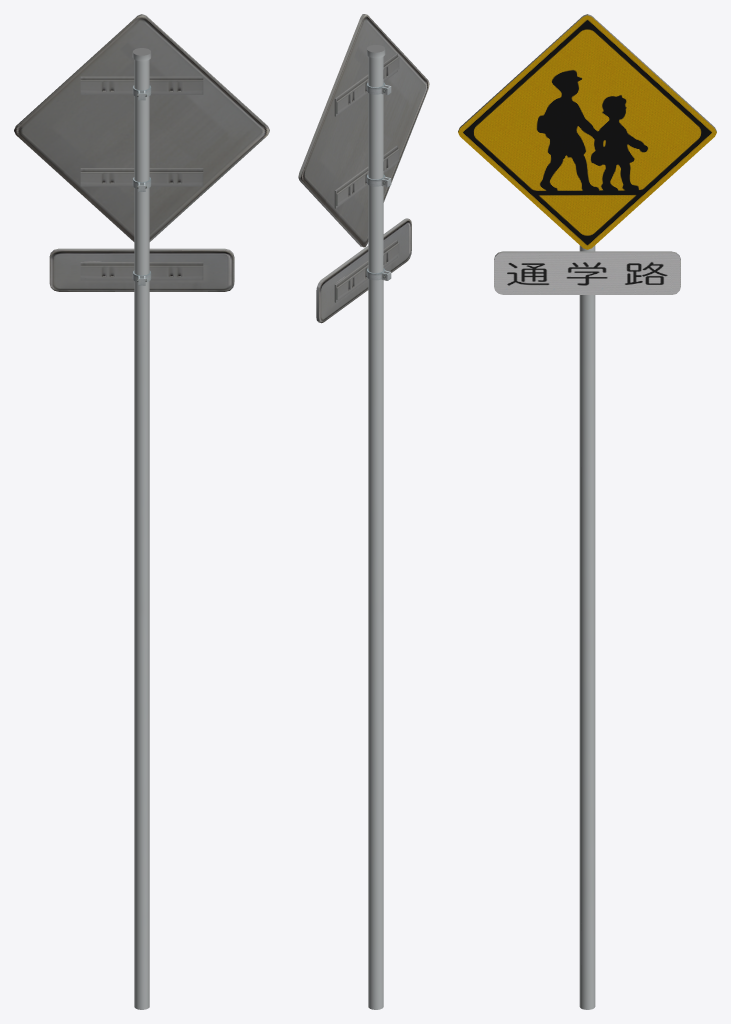
Rendered from Preset_Sign208.fbx.
The picture shows the model from 3 angles, left to right: view 1: azimuth 90°, elevation 25°; view 2: azimuth 150°, elevation 25°; view 3: azimuth 270°, elevation 25°; orthographic projection.
Visible parts, largest first — view 1: Sign208_Back, PoleV, Arm, Sign508_Back; view 2: PoleV, Sign208_Back, Arm, Sign508_Back; view 3: Sign208, PoleV, Sign508.
Part boxes in pixels (<box>): Sign208_Back: <box>14,14,269,241</box>; PoleV: <box>132,48,151,1009</box>; Arm: <box>80,76,203,280</box>; Sign508_Back: <box>49,248,234,291</box>; PoleV: <box>366,45,391,1009</box>; Sign208_Back: <box>298,14,429,247</box>; Arm: <box>334,53,399,302</box>; Sign508_Back: <box>316,218,411,323</box>; Sign208: <box>458,15,716,249</box>; PoleV: <box>579,245,595,1009</box>; Sign508: <box>494,252,680,294</box>.
Size of the model in its own units: 10.13 by 83 by 353.
6 materials, 6 textured.
